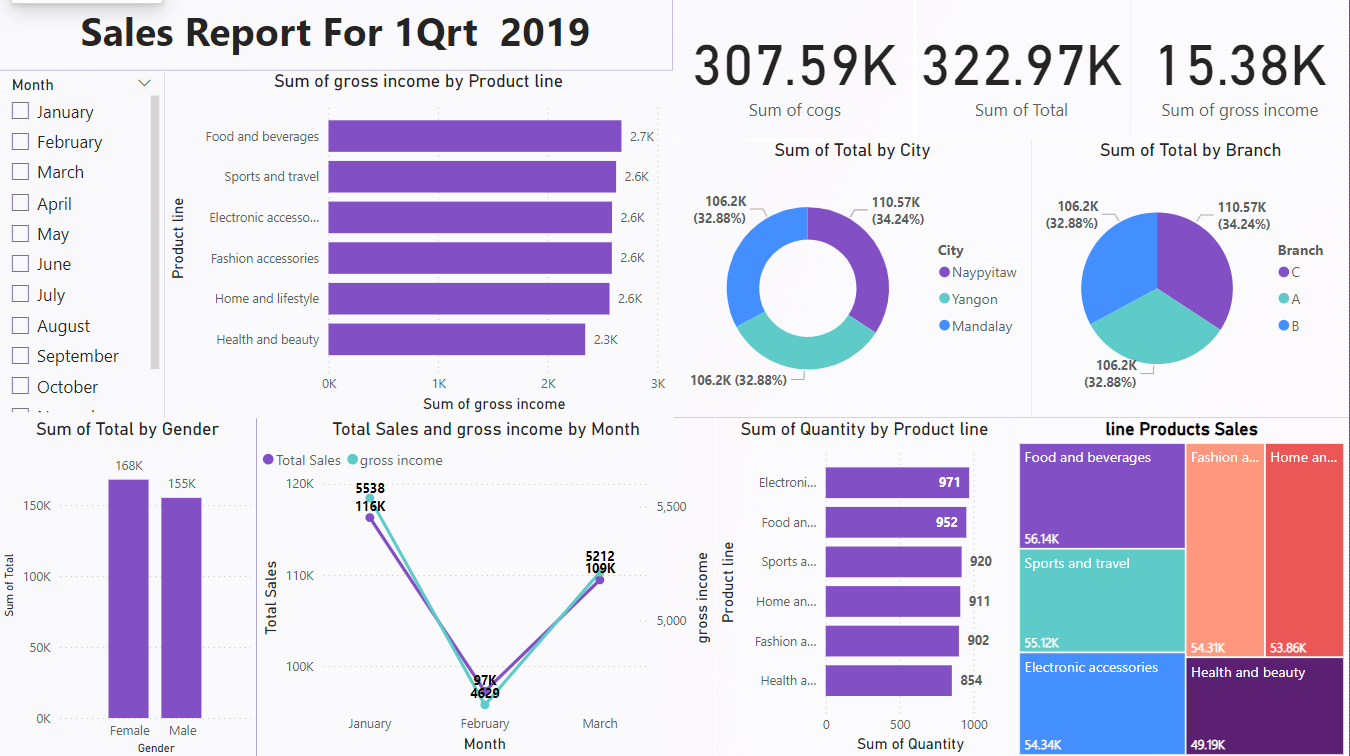

What the dashboard file says about the page in this screenshot:
{"tool":"powerbi","page":{"name":"Page 1","canvas":[1280,720],"ordinal":0},"visuals":[{"type":"card","fields":{"Values":["Sum(supermarket_sales.gross income)"]},"box":[1072.7,0,207.5,133.2],"z":0},{"type":"card","fields":{"Values":["Sum(supermarket_sales.Total)"]},"box":[866.6,0,206.1,133.2],"z":1000},{"type":"card","fields":{"Values":["Sum(supermarket_sales.cogs)"]},"box":[639.4,0,231.4,133.2],"z":2000},{"type":"pieChart","fields":{"Category":["supermarket_sales.Branch"],"Y":["Sum(supermarket_sales.Total)"]},"box":[979.4,132.6,300.8,264.1],"z":3000},{"type":"donutChart","fields":{"Category":["supermarket_sales.City"],"Y":["Sum(supermarket_sales.Total)"]},"box":[639.5,132.6,339.9,264.1],"z":4000},{"type":"treemap","title":"line Products Sales","fields":{"Group":["supermarket_sales.Product line"],"Values":["Sum(supermarket_sales.Total)"]},"box":[962.8,396.7,317.4,324.5],"z":5000},{"type":"clusteredColumnChart","fields":{"Category":["supermarket_sales.Gender"],"Y":["Sum(supermarket_sales.Total)"]},"box":[0,396.7,245.2,324.5],"z":6000},{"type":"slicer","fields":{"Values":["supermarket_sales.Date.Variation.Date Hierarchy.Month"]},"box":[0,67.5,157.5,329.2],"z":7000},{"type":"lineChart","fields":{"Category":["supermarket_sales.Date.Variation.Date Hierarchy.Month"],"Y":["Sum(supermarket_sales.Total)"],"Y2":["Sum(supermarket_sales.gross income)"]},"box":[245.2,396.7,434.6,322.1],"z":8000},{"type":"clusteredBarChart","fields":{"Category":["supermarket_sales.Product line"],"Y":["Sum(supermarket_sales.gross income)"]},"box":[157.5,67.5,482,329.2],"z":9000},{"type":"clusteredBarChart","fields":{"Category":["supermarket_sales.Product line"],"Y":["Sum(supermarket_sales.Quantity)"]},"box":[678.7,396.8,284.7,322.5],"z":10000},{"type":"textbox","box":[0,0,639.4,67.3],"z":11000}]}

Visuals, with their boxes in screenshot pixels (x1, y1, x2, y2), scaled from the page's 1280x720 canvas onto the 1350x756 screenshot:
card - Sum(supermarket_sales.gross income): bbox=(1131, 0, 1349, 140)
card - Sum(supermarket_sales.Total): bbox=(914, 0, 1131, 140)
card - Sum(supermarket_sales.cogs): bbox=(674, 0, 918, 140)
pieChart - supermarket_sales.Branch x Sum(supermarket_sales.Total): bbox=(1033, 139, 1349, 417)
donutChart - supermarket_sales.City x Sum(supermarket_sales.Total): bbox=(674, 139, 1033, 417)
"line Products Sales" treemap: bbox=(1015, 417, 1349, 755)
clusteredColumnChart - supermarket_sales.Gender x Sum(supermarket_sales.Total): bbox=(0, 417, 259, 755)
slicer - supermarket_sales.Date.Variation.Date Hierarchy.Month: bbox=(0, 71, 166, 417)
lineChart - supermarket_sales.Date.Variation.Date Hierarchy.Month x Sum(supermarket_sales.Total): bbox=(259, 417, 717, 755)
clusteredBarChart - supermarket_sales.Product line x Sum(supermarket_sales.gross income): bbox=(166, 71, 674, 417)
clusteredBarChart - supermarket_sales.Product line x Sum(supermarket_sales.Quantity): bbox=(716, 417, 1016, 755)
textbox: bbox=(0, 0, 674, 71)
